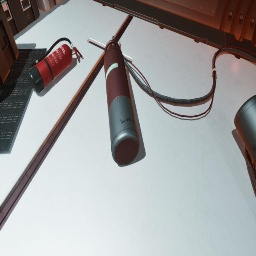FireExtinguisher ]: (27, 37, 83, 94)
NitrogenTank ,: (104, 40, 140, 165), (234, 95, 256, 168)
